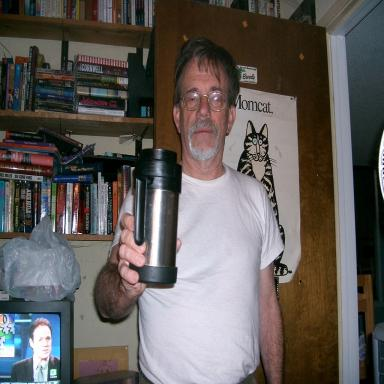book: (0, 124, 138, 235), (0, 44, 77, 114), (67, 54, 152, 117), (0, 0, 154, 29), (203, 0, 284, 18)
bookcase: (0, 0, 282, 240)
clothing: (106, 159, 285, 383)
humanface: (179, 57, 228, 161), (34, 324, 52, 358)
man: (107, 54, 281, 358), (10, 313, 59, 383)
plasticbag: (0, 210, 82, 301)
shelf: (0, 0, 288, 248), (0, 46, 155, 142), (0, 137, 144, 239), (0, 0, 247, 48)
